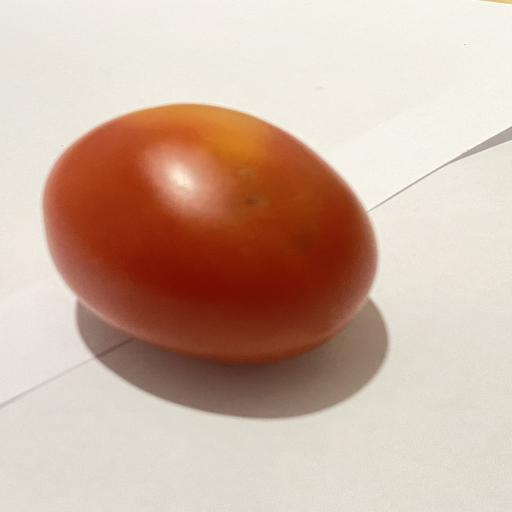ripe: (43, 104, 377, 362)
